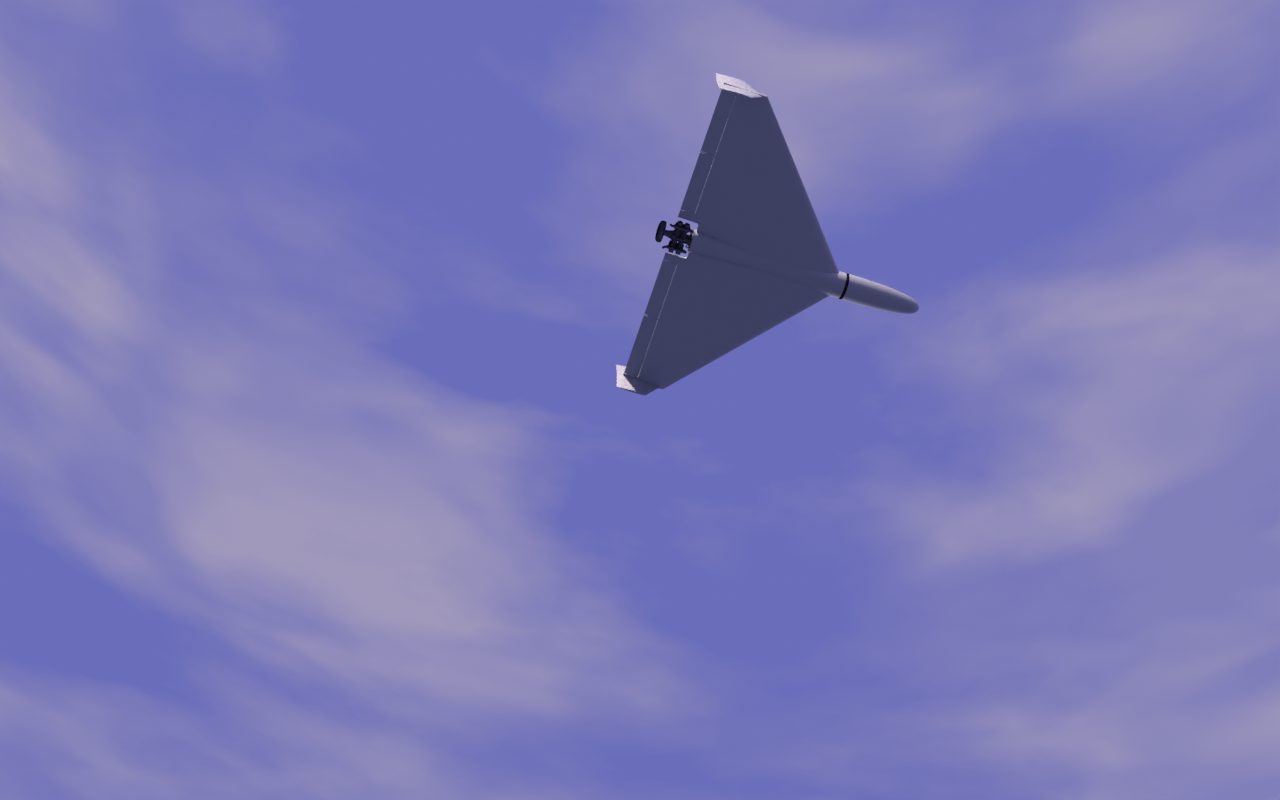shahed: (616, 73, 921, 397)
